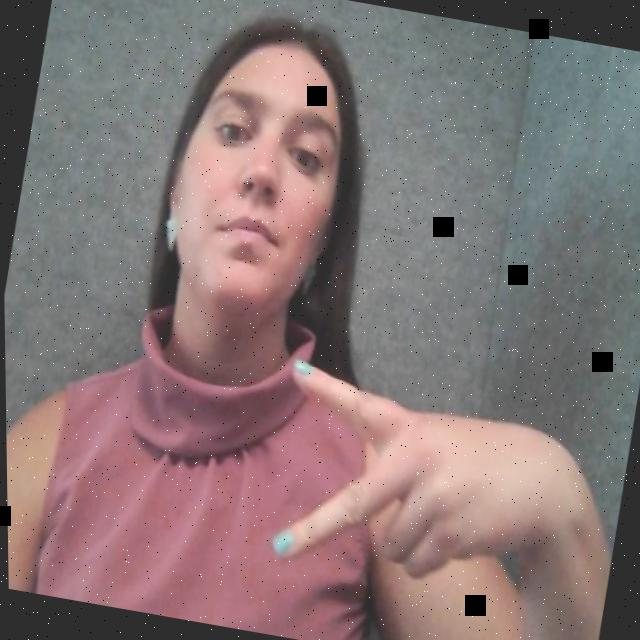Scissors: (157, 314, 624, 640)
